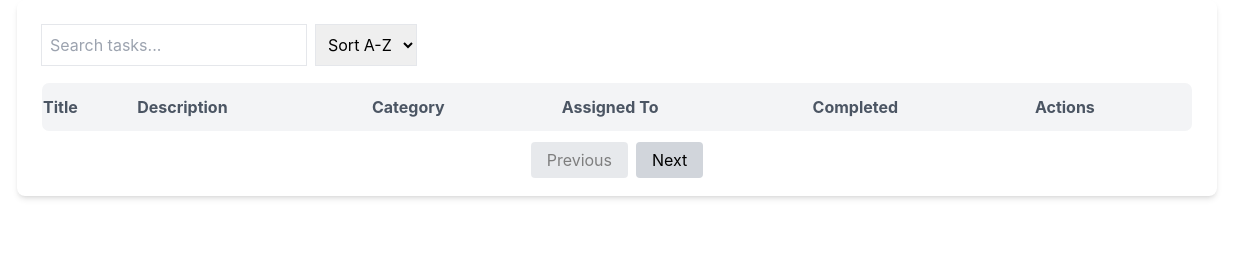
it: TaskManager › filters tasks based on search term
The width and height of the screenshot is (1235, 275).
Type "Task 1" into the search field with placeholder "Search tasks..." at (174, 45), box [41, 24, 307, 66]
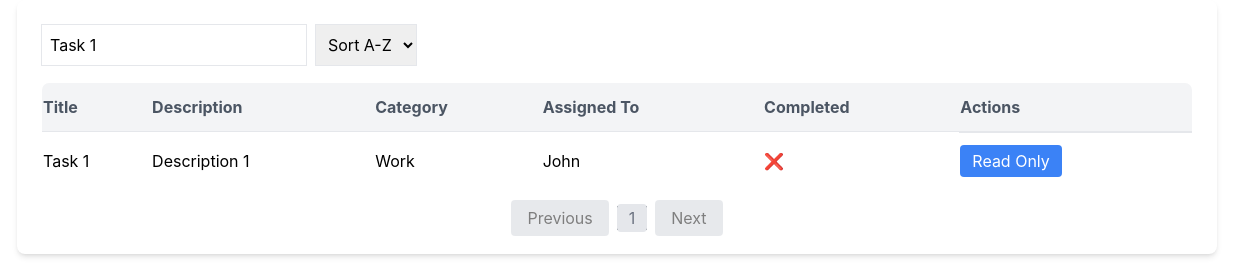
Check: the text "Task 1" is shown, box [42, 132, 151, 190]
